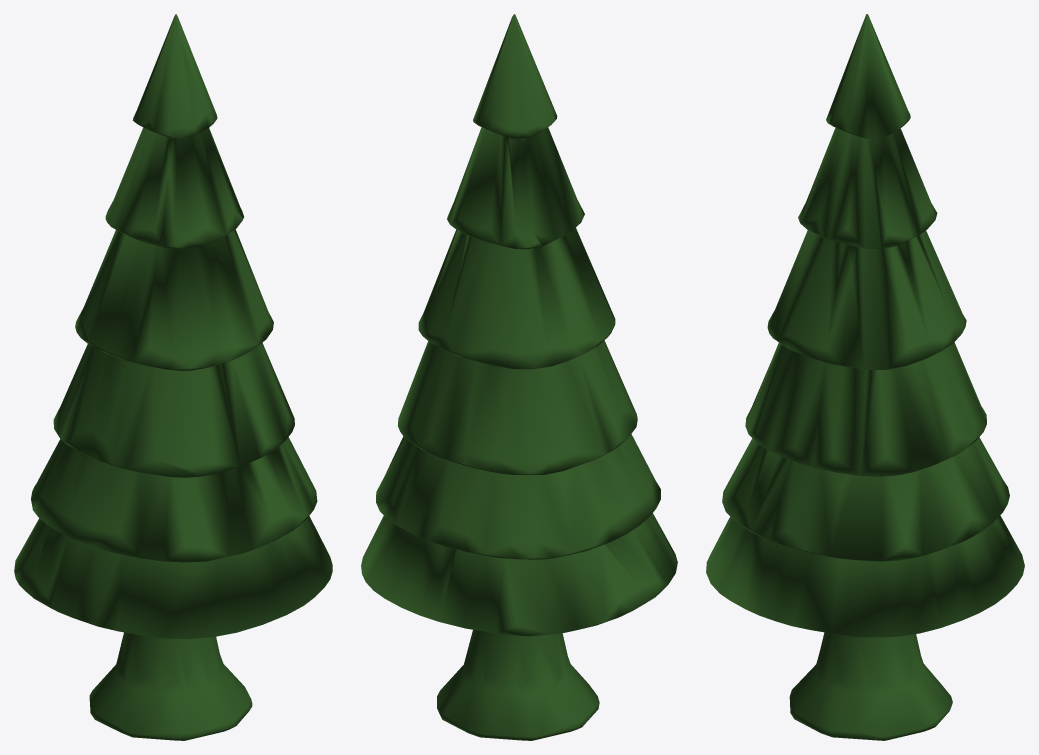
The model's file is PrettierTree.fbx.
The picture shows the model from 3 angles, left to right: view 1: azimuth 30°, elevation 25°; view 2: azimuth 150°, elevation 25°; view 3: azimuth 270°, elevation 25°; orthographic projection.
Visible parts, largest first — view 1: Cylinder; view 2: Cylinder; view 3: Cylinder.
Boxes of the visible parts, <box> form: Cylinder: <box>14,14,332,740</box>; Cylinder: <box>361,14,677,740</box>; Cylinder: <box>706,14,1024,740</box>.
Size of the model in its own units: 5.76 by 13.95 by 5.75.
